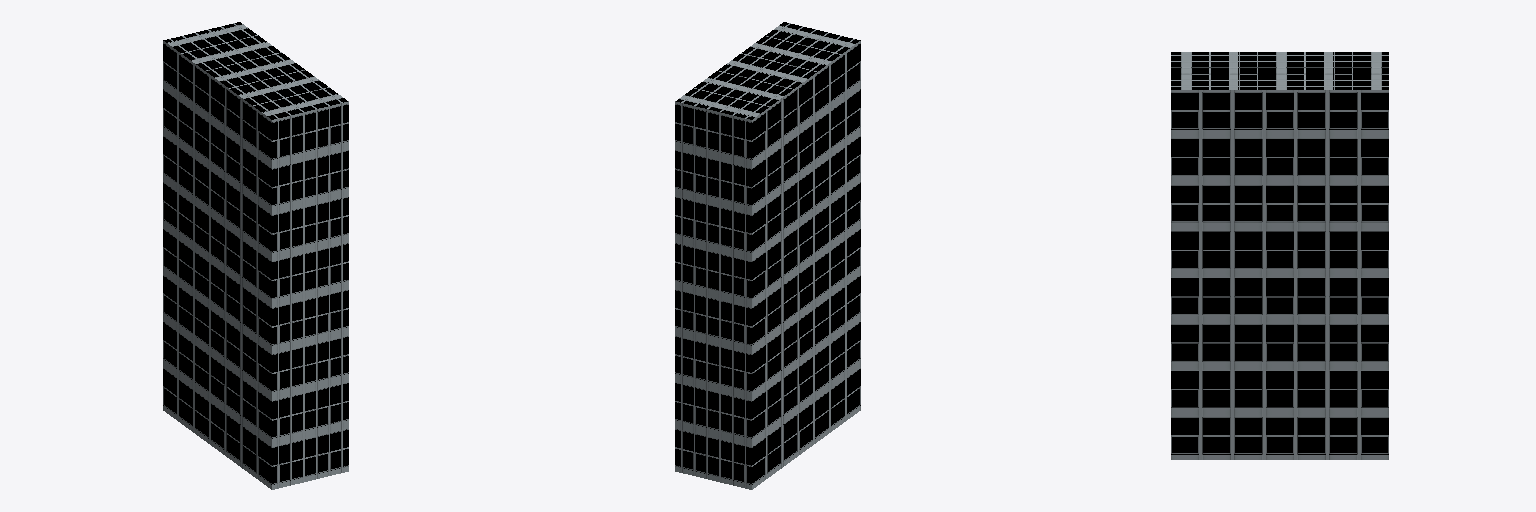
3 views of the same model, side by side, from view 1: azimuth 30°, elevation 25°; view 2: azimuth 150°, elevation 25°; view 3: azimuth 270°, elevation 25° (orthographic).
Visible parts, largest first — view 1: Plane; view 2: Plane; view 3: Plane.
Boxes of the visible parts, x1,y1,x2,y2 form: Plane: [163, 22, 348, 489]; Plane: [675, 22, 860, 489]; Plane: [1171, 52, 1388, 459].
Bounding box in the file's own units: 1.72 × 7.94 × 4.23.
1 materials, 1 textured.